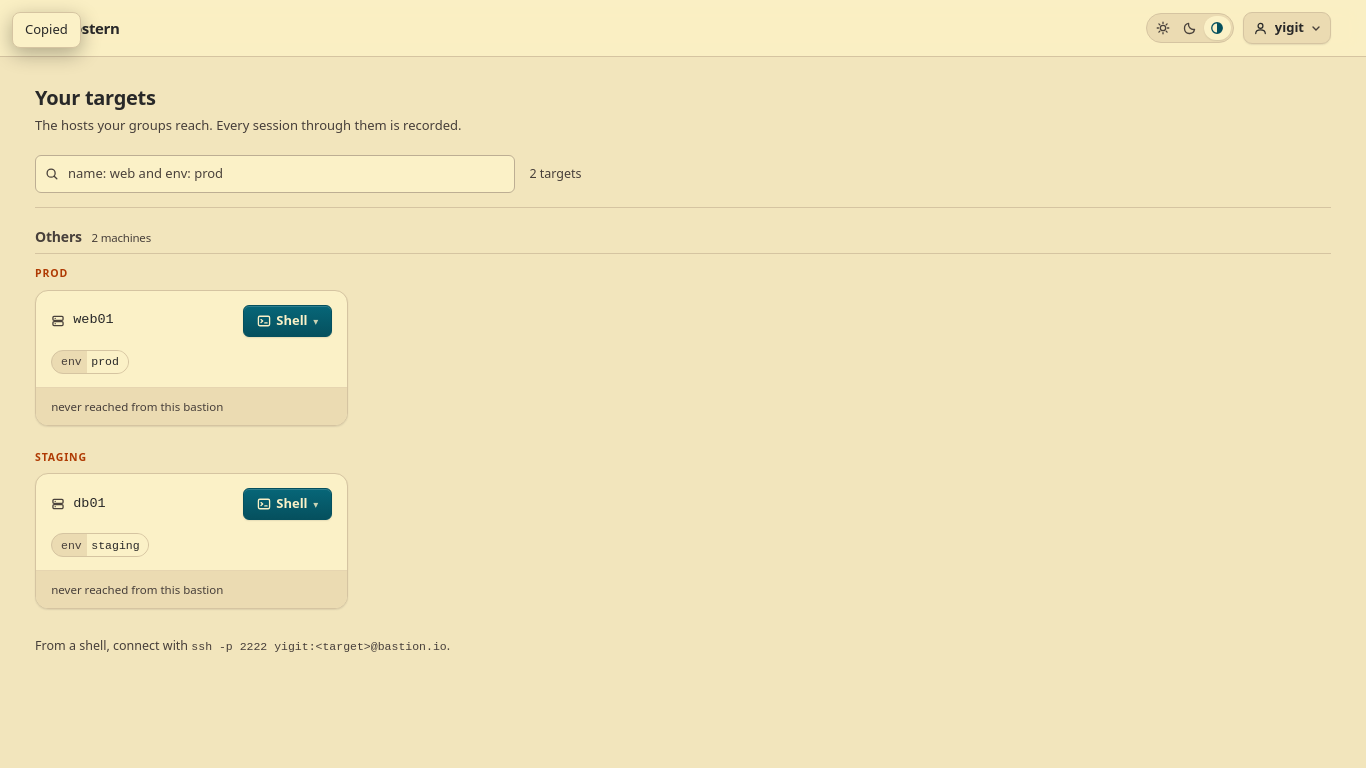
Test: App kabuk baglantisi › etiketler kutuda gorunur ve sorguyla suzulur
Expected: the link "web01" is shown, 51,310 -> 114,331
Expected: the link "db01" is shown, 51,494 -> 106,514
Type "env: prod" into the search field named "filter targets". click: (275, 174)
box: 35,155 -> 515,193
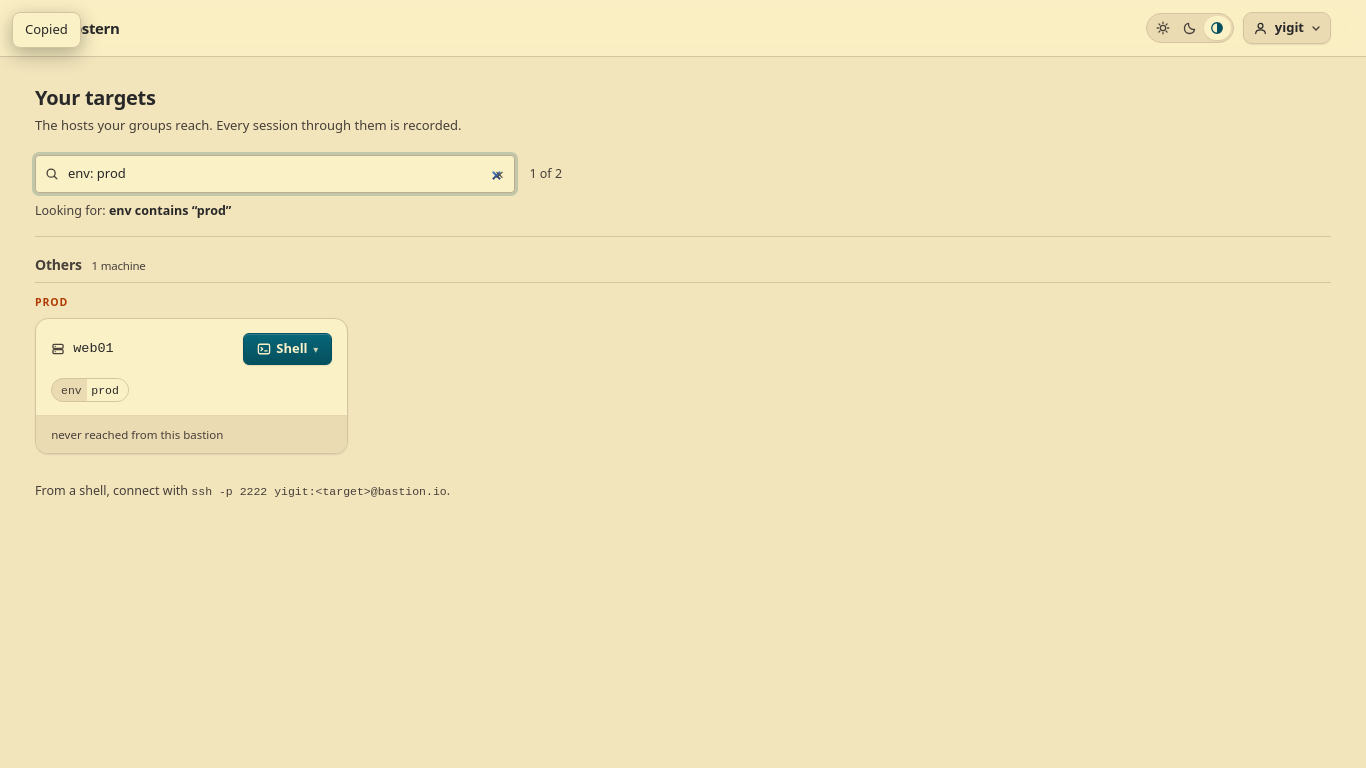
Expected: the link "web01" is shown, 51,339 -> 114,359
Expected: the link "db01" is gone
